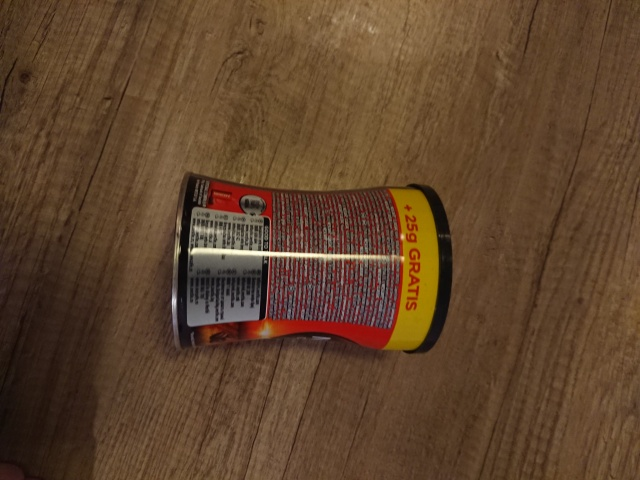Nescafe Classic 225g: (167, 168, 457, 359)
